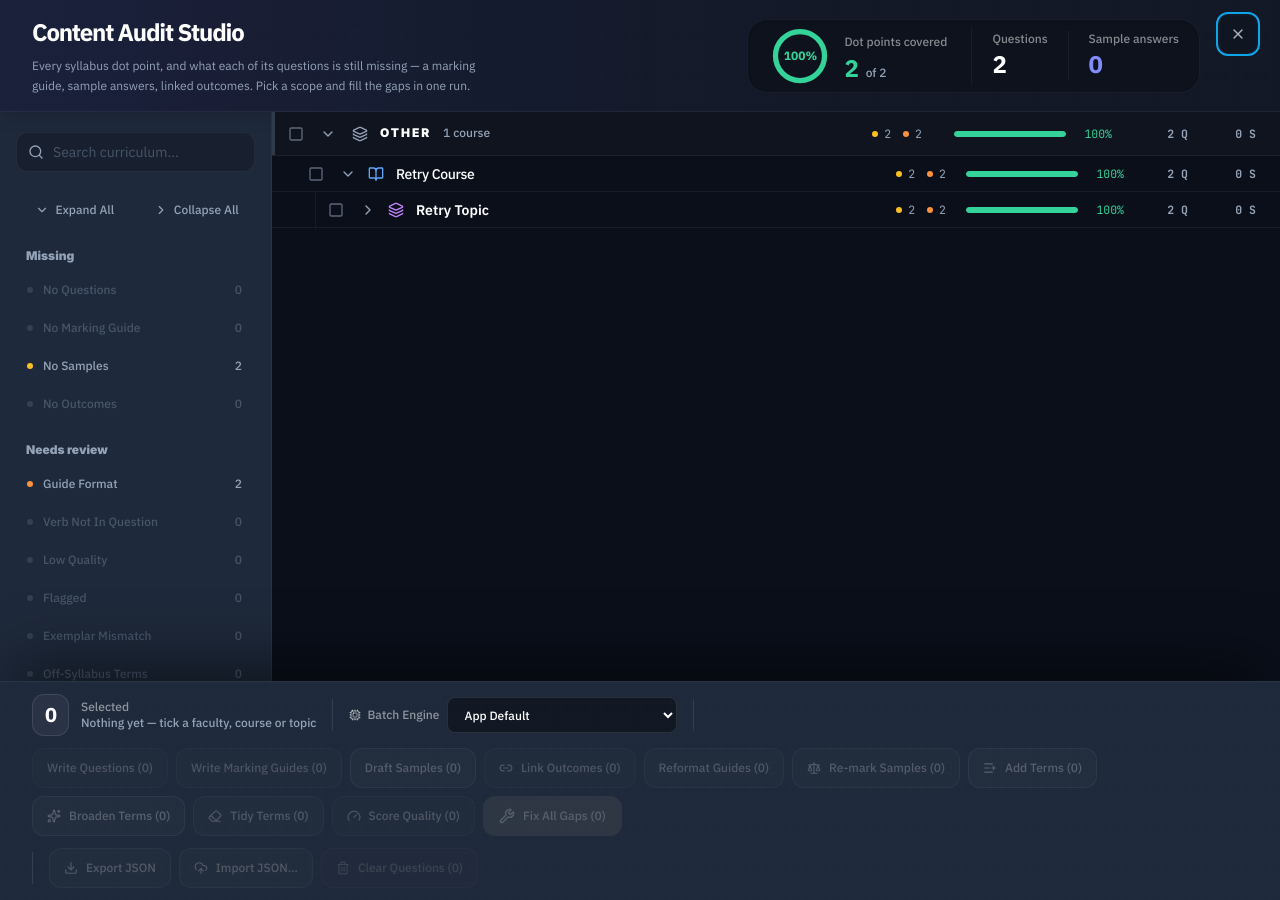
Test: Content Audit Studio — selecting a run of rows › falls back to a plain tick when there is no anchor to reach back to
Click the button "Expand All" at (75, 210), box x1=16 y1=192 x2=134 y2=228
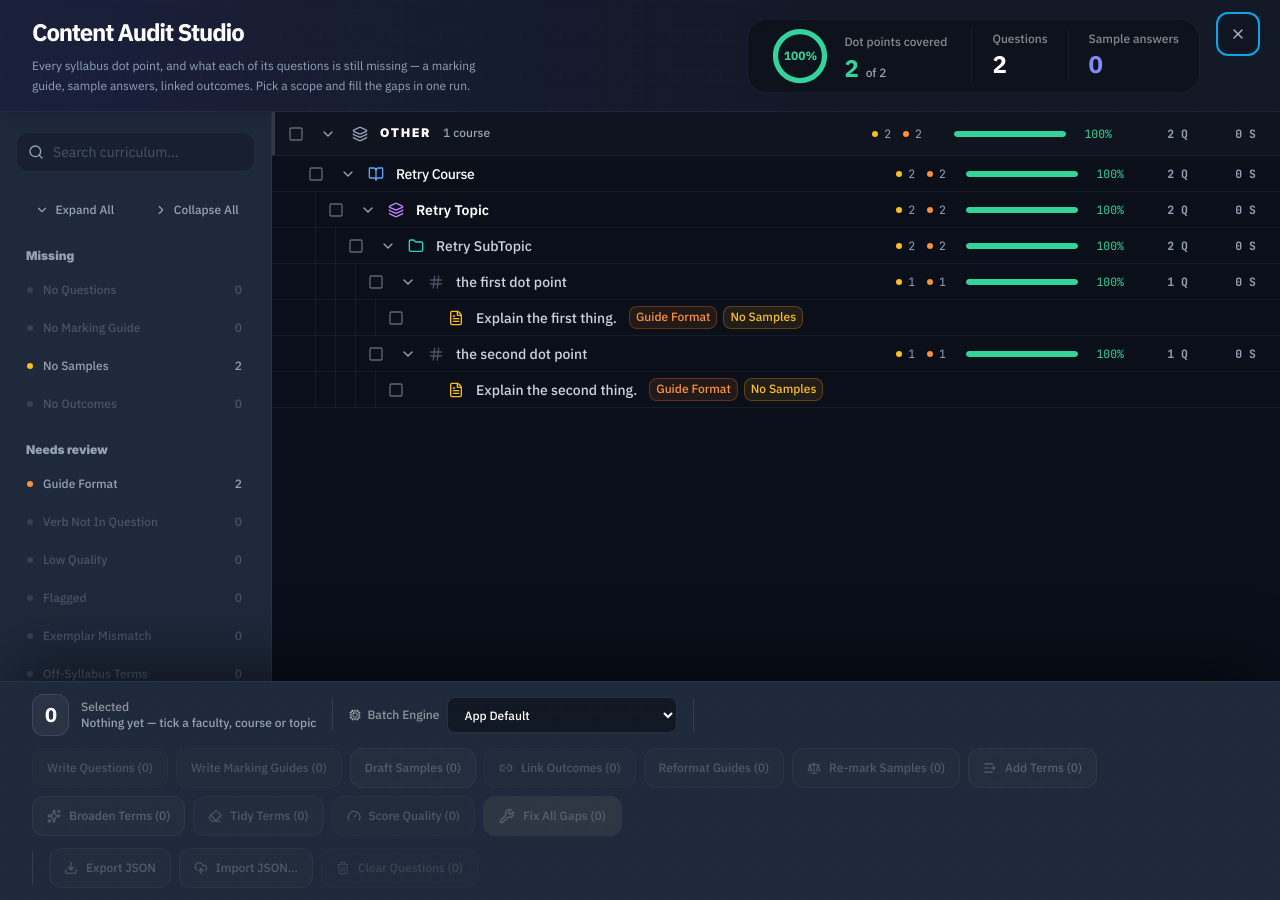
Click the button named "Select the second dot point" at (376, 354), box x1=368 y1=346 x2=384 y2=362
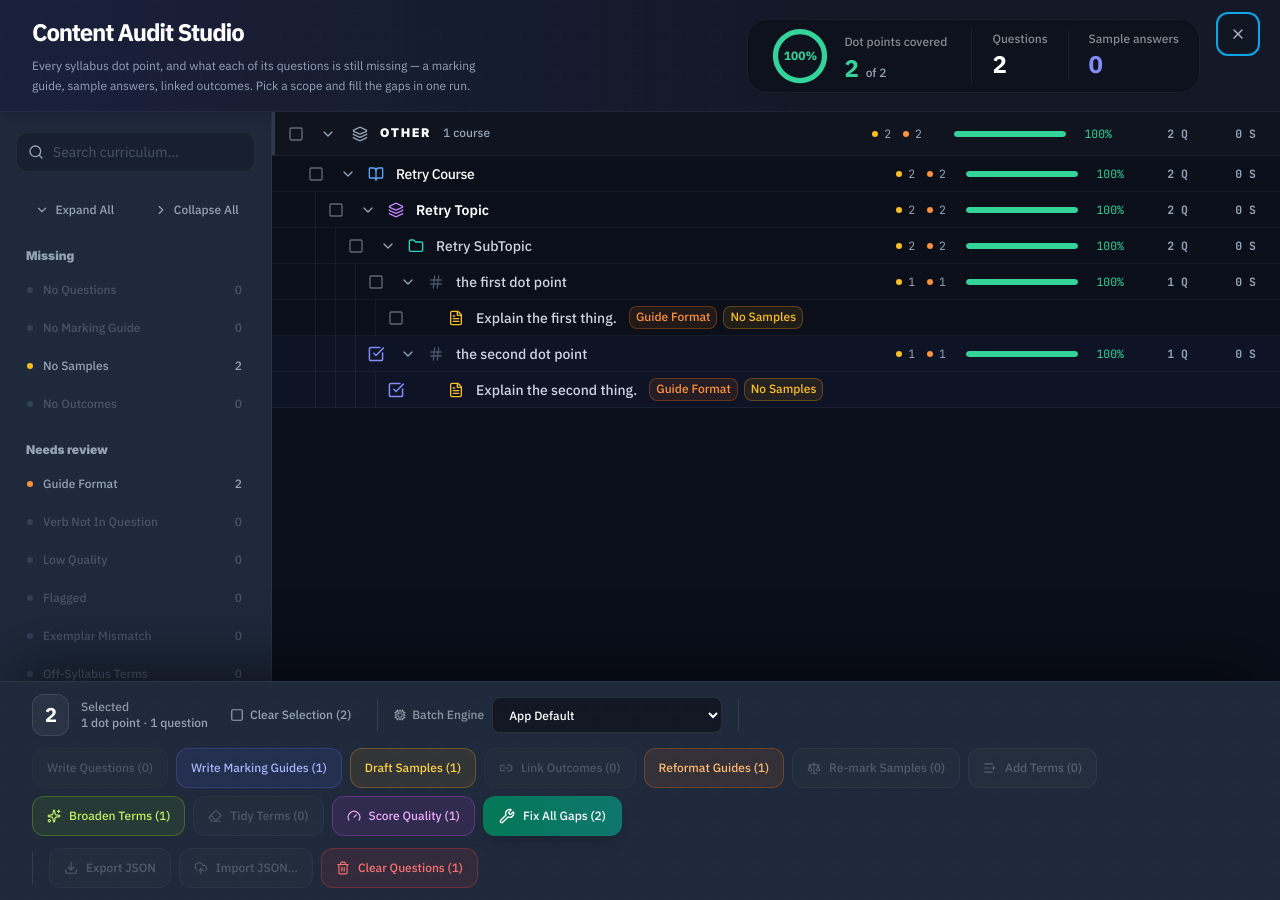
Check: the button "Clear Selection (2)" is shown, box x1=220 y1=699 x2=361 y2=731
